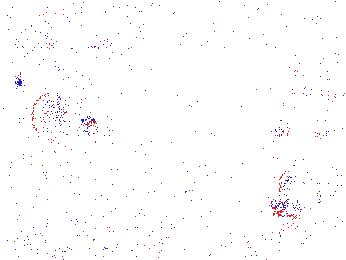flame jellyfish: (30, 90, 98, 144), (263, 63, 307, 139), (268, 162, 324, 221)
